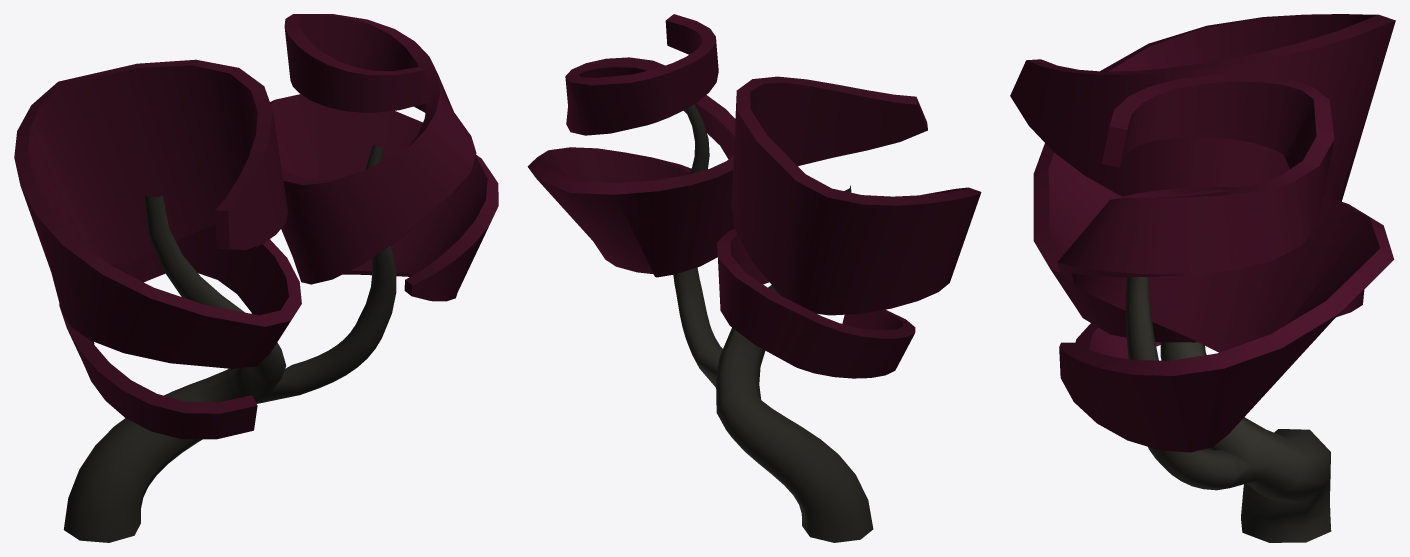
Rendered from Tree_Spiral_2.glb.
3 renders of one model, left to right at view 1: azimuth 30°, elevation 25°; view 2: azimuth 150°, elevation 25°; view 3: azimuth 270°, elevation 25°, orthographic. The views are drawn at different scales.
Visible parts, largest first — view 1: Tree_Spiral_3; view 2: Tree_Spiral_3; view 3: Tree_Spiral_3.
Part boxes in pixels (left/top/right/bottom): Tree_Spiral_3: left=14, top=14, right=498, bottom=542; Tree_Spiral_3: left=527, top=14, right=981, bottom=542; Tree_Spiral_3: left=1010, top=14, right=1395, bottom=542.
Size of the model in its own units: 4.22 by 4.05 by 2.54.
